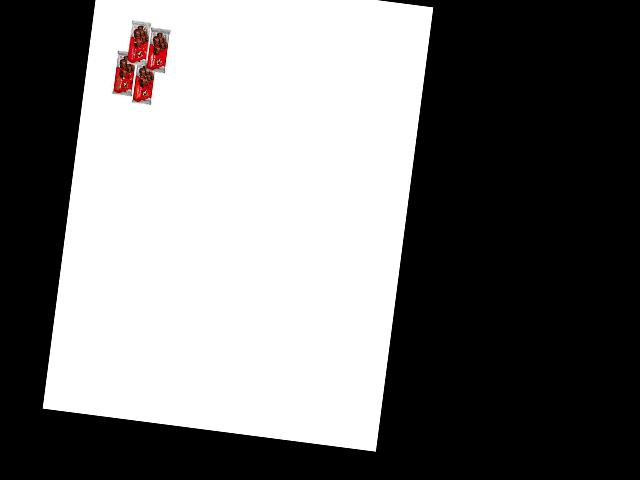chocolate: (109, 47, 141, 100)
